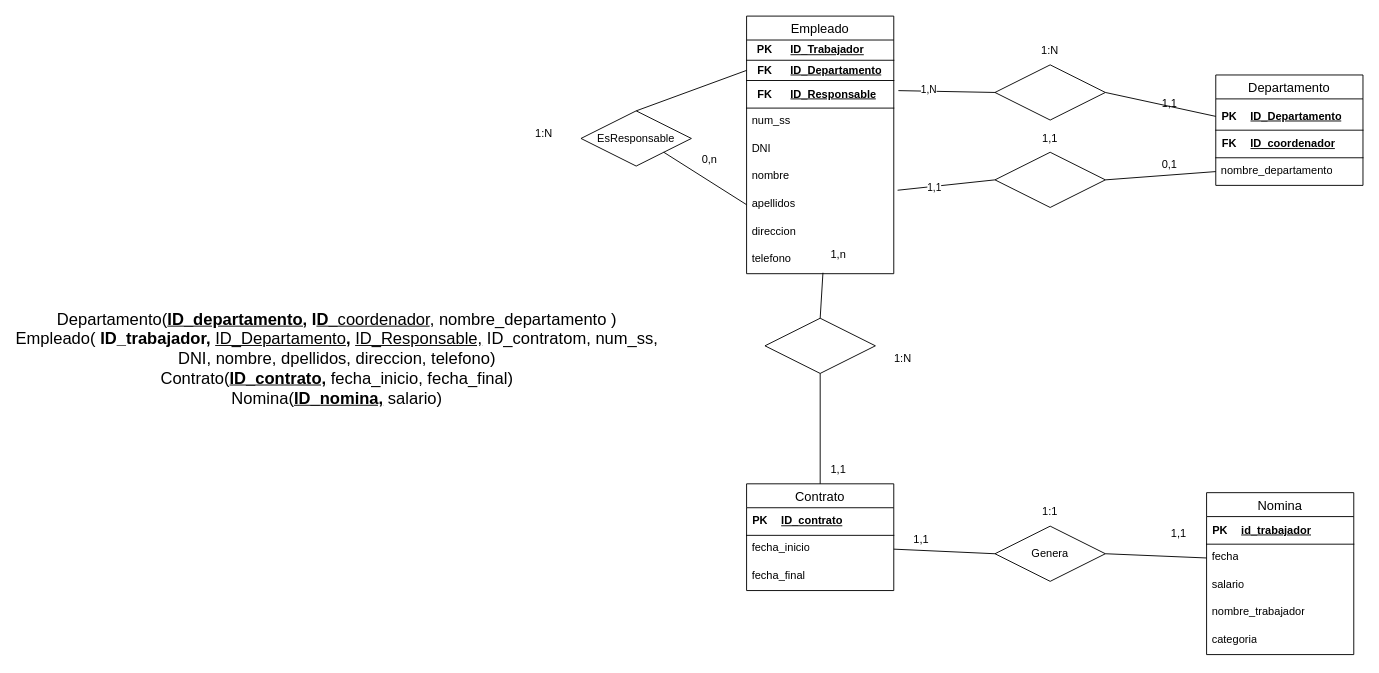
This 1379x673 diagram has some shape labels left out. Each missing label, with the centre of its shape:
"Coordina" belongs at (x=1049, y=179).
"Tiene" belongs at (x=819, y=345).
"Trabaja" belongs at (x=1049, y=92).
